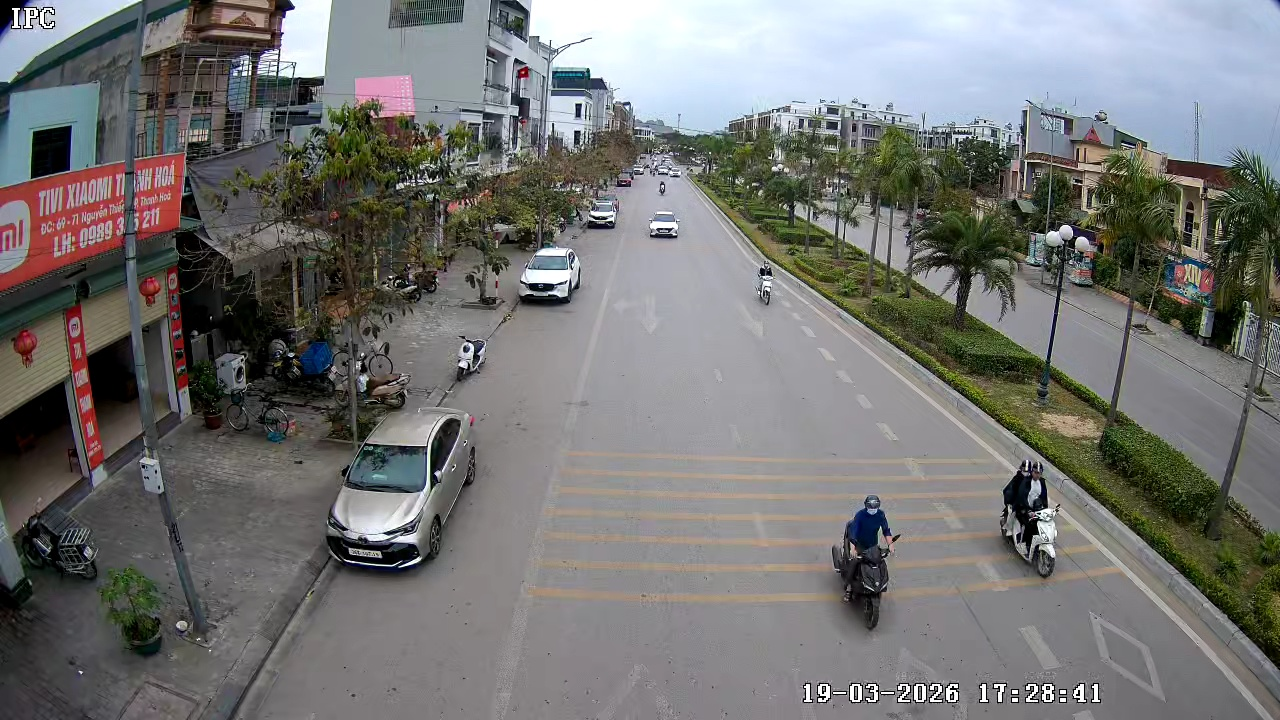car: (326, 406, 478, 571), (518, 245, 582, 304), (583, 196, 619, 229), (647, 208, 681, 240)
motorbike: (833, 492, 901, 631), (998, 455, 1061, 578), (354, 340, 413, 411), (452, 332, 486, 382), (755, 260, 776, 306), (657, 180, 671, 197)
